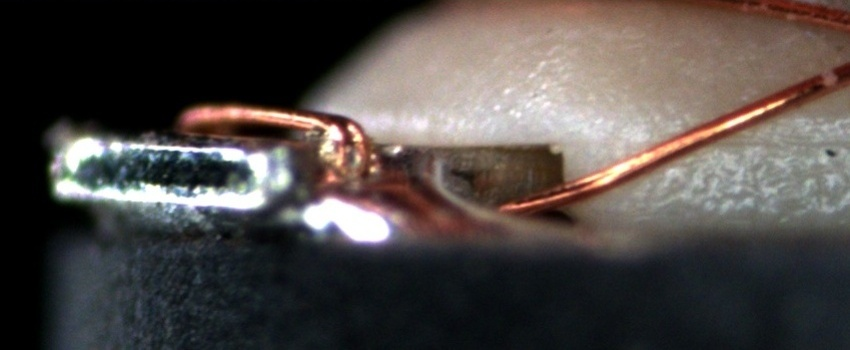DL: (630, 117, 849, 177)
TE: (168, 94, 376, 164)
